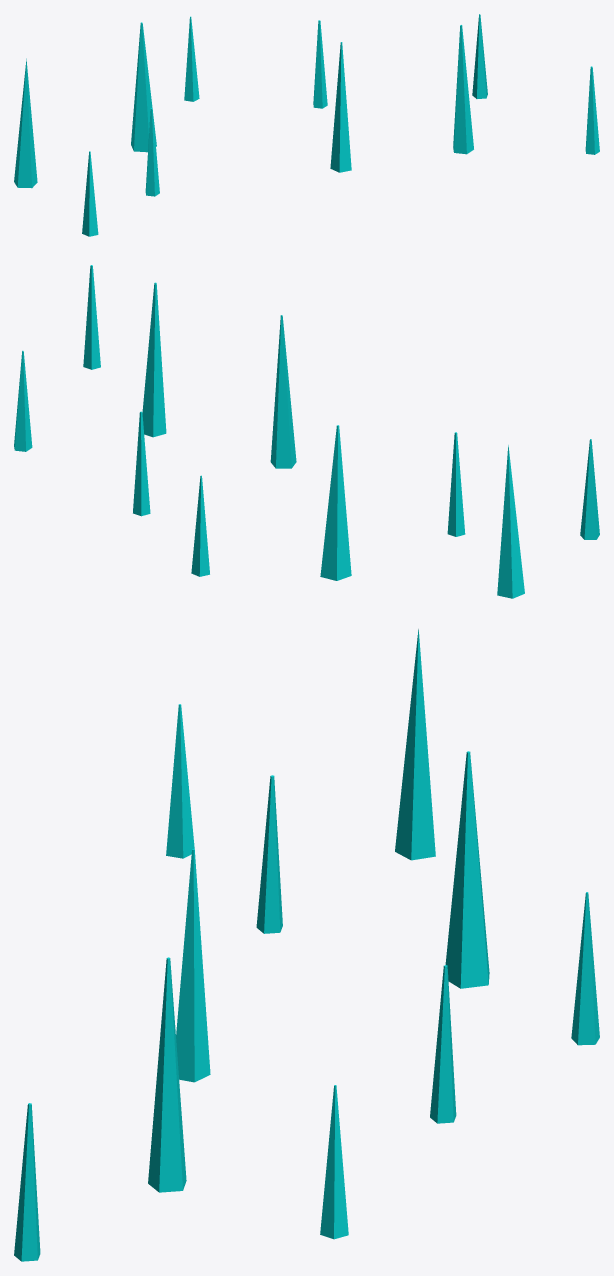
Rendered from SM_Env_Tree_Group_02_Collision.fbx.
3 views of the same model, one above another, from view 1: azimuth 30°, elevation 25°; view 2: azimuth 150°, elevation 25°; view 3: azimuth 270°, elevation 25° (orthographic). The views are drawn at different scales.
Visible parts, largest first — view 1: SM_Env_Tree_Group_02_Collision; view 2: SM_Env_Tree_Group_02_Collision; view 3: SM_Env_Tree_Group_02_Collision.
Boxes of the visible parts, left/top/right/bottom form: SM_Env_Tree_Group_02_Collision: left=14, top=14, right=599, bottom=236; SM_Env_Tree_Group_02_Collision: left=14, top=265, right=599, bottom=598; SM_Env_Tree_Group_02_Collision: left=14, top=629, right=599, bottom=1261.
Bounding box in the file's own units: 1615 × 427 × 958.
